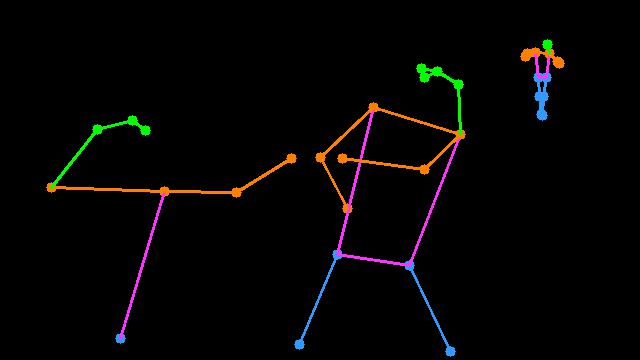normal: (510, 20, 569, 133)
